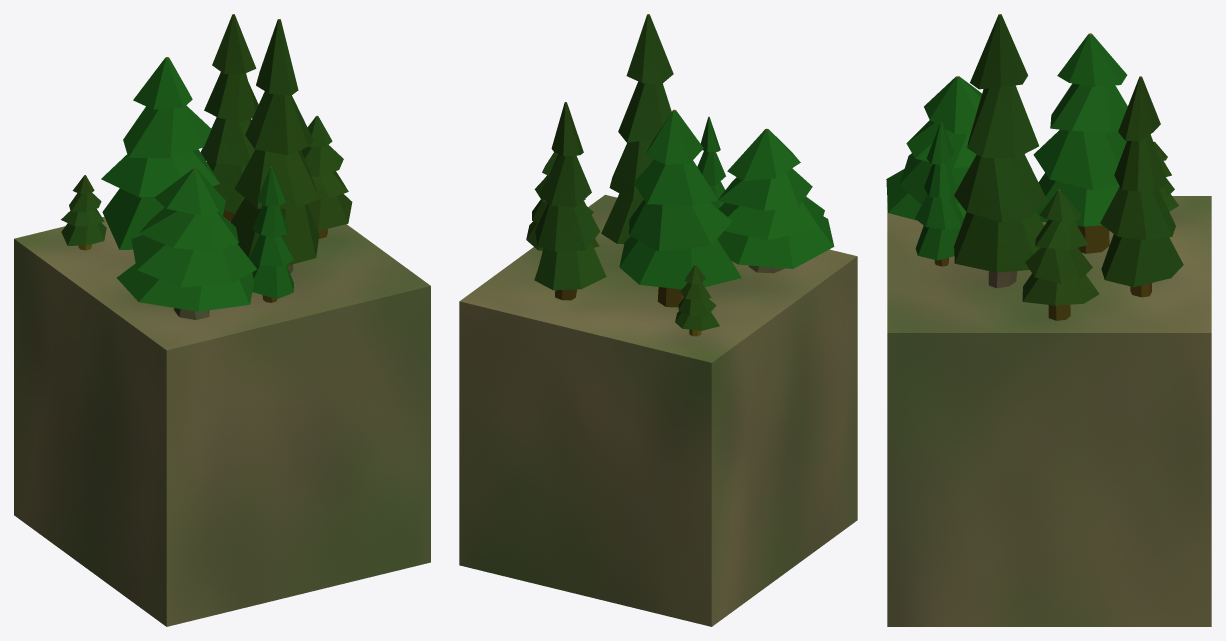
File: TileGozd1.fbx
3 views of the same model, side by side, from view 1: azimuth 30°, elevation 25°; view 2: azimuth 150°, elevation 25°; view 3: azimuth 270°, elevation 25° (orthographic). The views are drawn at different scales.
Visible parts, largest first — view 1: Cylinder.001; view 2: Cylinder.001; view 3: Cylinder.001.
Part boxes in pixels (x1,y1,x2,y2): Cylinder.001: (14,14,430,626); Cylinder.001: (459,14,857,626); Cylinder.001: (886,14,1211,626).
Bounding box in the file's own units: 202 × 382 × 200.
